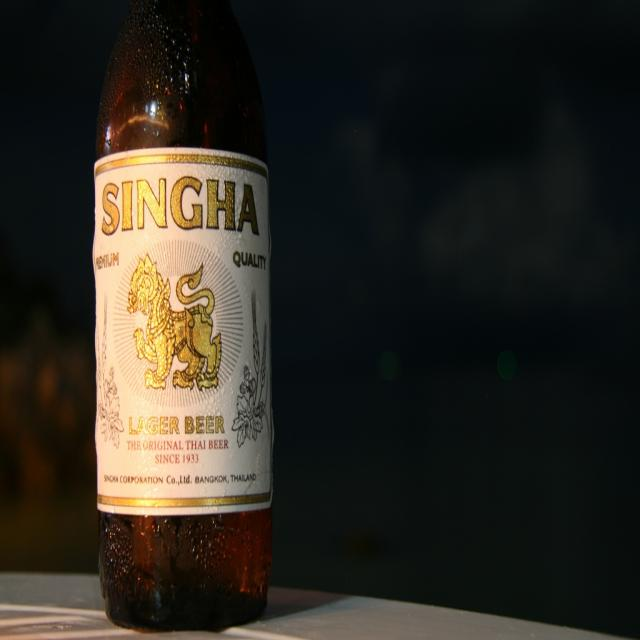singha: (96, 155, 275, 509)
